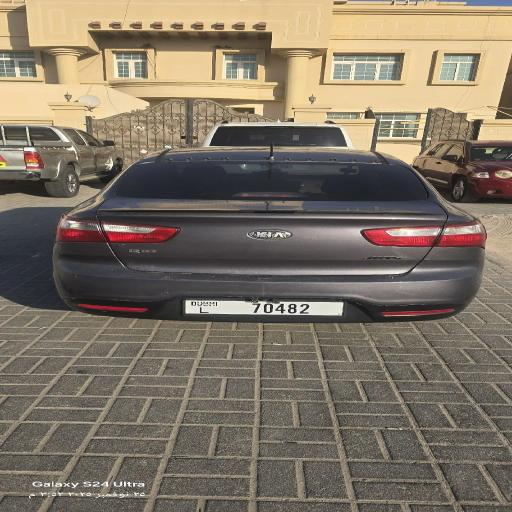license-plates: (182, 299, 344, 318)
